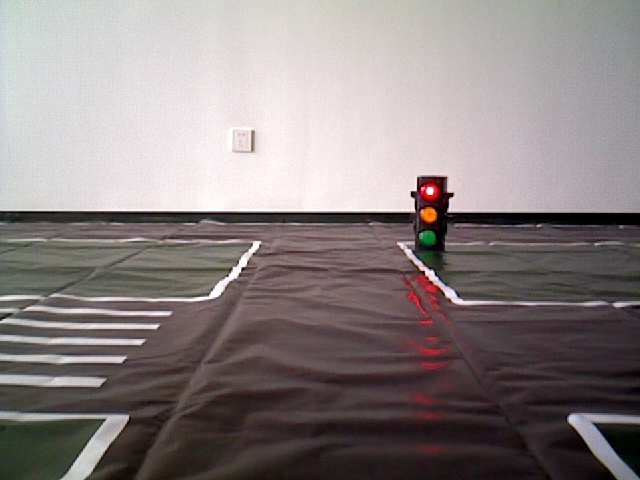red: (414, 175, 442, 248)
